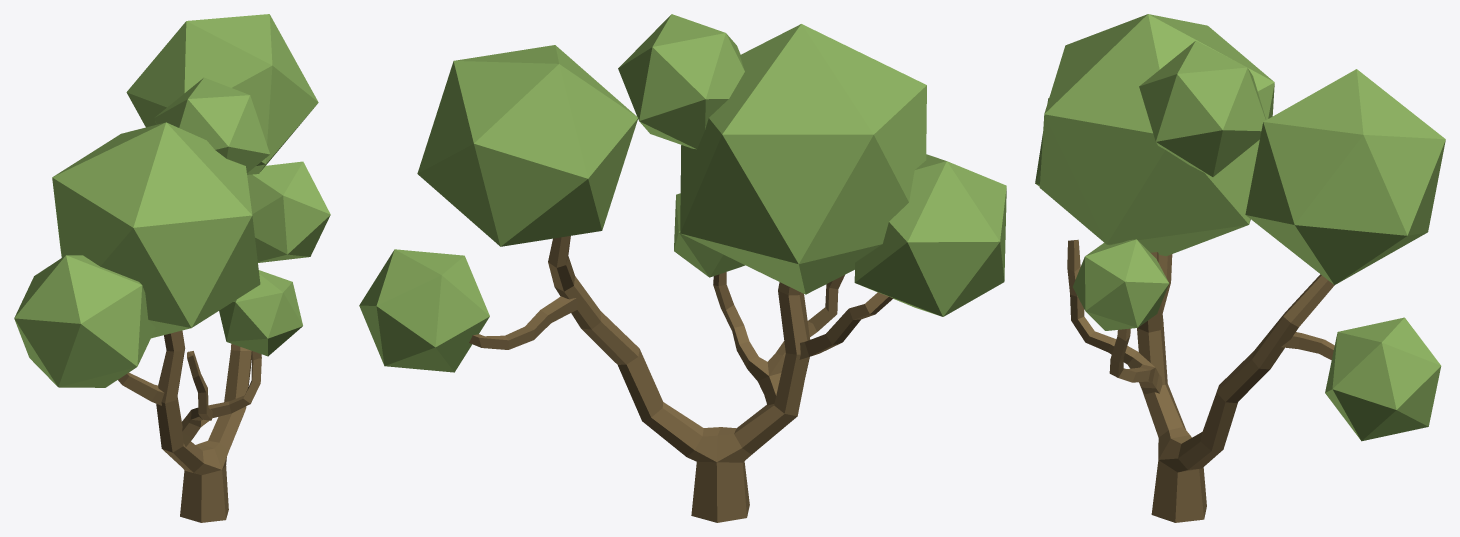
File: TreeConvert.gltf
3 views of the same model, side by side, from view 1: azimuth 30°, elevation 25°; view 2: azimuth 150°, elevation 25°; view 3: azimuth 270°, elevation 25° (orthographic). The views are drawn at different scales.
Parts seen in each view (by area): view 1: Tree_lp_11; view 2: Tree_lp_11; view 3: Tree_lp_11.
Boxes of the visible parts, x1,y1,x2,y2 form: Tree_lp_11: [14, 14, 330, 522]; Tree_lp_11: [359, 14, 1006, 522]; Tree_lp_11: [1035, 14, 1445, 522].
Size of the model in its own units: 27.98 by 26.54 by 20.8.
